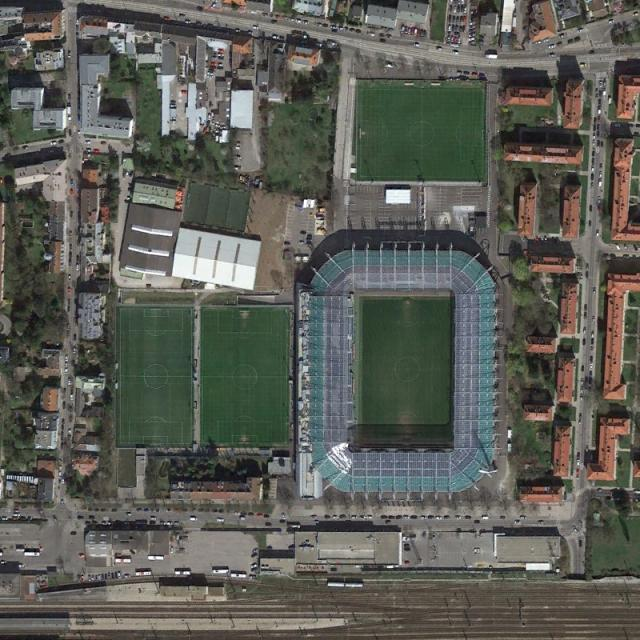vehicle: (172, 566, 194, 575), (134, 569, 157, 577), (146, 554, 169, 562), (115, 557, 133, 566), (213, 566, 230, 575), (230, 572, 248, 579), (25, 551, 42, 557), (486, 54, 498, 59), (434, 46, 444, 51), (61, 476, 66, 486), (452, 50, 460, 56), (395, 515, 403, 521), (190, 517, 199, 522), (73, 333, 78, 342), (578, 28, 585, 34), (210, 2, 216, 9), (271, 34, 278, 40), (572, 526, 578, 533), (443, 515, 450, 521), (548, 44, 556, 49), (330, 25, 338, 30), (599, 170, 604, 178), (579, 394, 584, 402), (464, 515, 472, 520), (170, 545, 174, 555), (124, 512, 132, 517), (264, 522, 272, 527), (598, 178, 602, 187), (70, 393, 74, 402), (295, 18, 302, 23), (413, 42, 420, 47), (633, 12, 640, 17), (616, 244, 621, 251), (520, 515, 527, 520), (538, 520, 545, 525), (481, 515, 488, 520), (420, 515, 427, 520), (250, 563, 257, 568), (166, 521, 173, 526), (548, 54, 556, 58), (598, 106, 602, 114), (558, 34, 566, 38), (588, 220, 592, 228), (603, 78, 607, 86), (591, 165, 595, 173), (599, 163, 603, 171), (597, 130, 601, 138), (585, 271, 589, 279), (584, 312, 588, 320), (454, 515, 462, 519), (410, 515, 418, 519), (358, 515, 366, 519), (350, 515, 358, 519), (217, 518, 225, 522), (58, 470, 62, 478), (61, 498, 65, 506), (580, 63, 586, 68), (303, 20, 309, 25), (608, 19, 614, 24), (623, 244, 628, 250), (474, 519, 480, 524), (239, 516, 245, 521), (340, 514, 346, 519), (602, 89, 606, 96), (595, 230, 599, 237), (591, 316, 595, 323), (184, 20, 191, 24), (337, 26, 344, 30), (368, 32, 375, 36), (543, 38, 550, 42), (535, 40, 542, 44), (593, 125, 597, 132), (591, 150, 595, 157), (591, 158, 595, 165), (590, 174, 594, 181), (600, 141, 604, 148), (581, 365, 585, 372), (580, 378, 584, 385), (403, 515, 410, 519), (174, 521, 181, 525), (150, 517, 157, 521), (14, 514, 21, 518), (282, 513, 286, 520), (590, 362, 593, 371), (289, 17, 294, 22), (252, 548, 257, 553), (593, 288, 597, 294), (252, 26, 258, 30), (599, 82, 603, 88), (598, 116, 601, 124), (598, 196, 601, 204), (586, 262, 589, 270), (584, 304, 588, 310), (591, 338, 594, 346), (580, 386, 583, 394), (578, 413, 582, 419), (435, 516, 443, 519), (428, 515, 434, 519), (381, 515, 387, 519), (366, 515, 372, 519), (73, 346, 76, 354), (68, 378, 71, 386), (64, 368, 68, 374), (589, 205, 592, 212), (583, 327, 586, 334), (594, 117, 597, 124), (597, 139, 600, 146), (591, 330, 594, 337), (578, 419, 581, 426), (577, 459, 580, 466), (586, 445, 589, 452), (65, 355, 68, 362), (576, 469, 580, 474), (64, 362, 68, 367), (593, 133, 596, 139), (592, 140, 595, 146), (388, 515, 394, 518), (332, 515, 338, 518), (68, 428, 71, 434), (76, 263, 78, 271), (597, 125, 600, 130)
